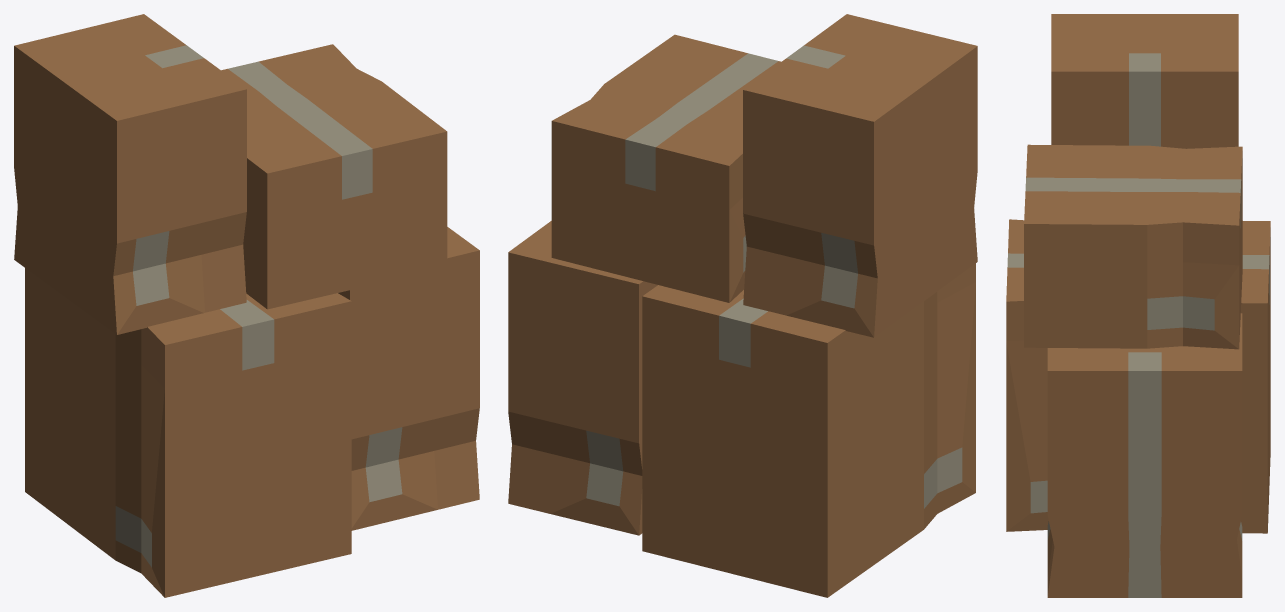
The model's file is Cardboard Boxes.glb.
3 views of the same model, side by side, from view 1: azimuth 30°, elevation 25°; view 2: azimuth 150°, elevation 25°; view 3: azimuth 270°, elevation 25° (orthographic). The views are drawn at different scales.
Visible parts, largest first — view 1: CardboardBoxes_4; view 2: CardboardBoxes_4; view 3: CardboardBoxes_4.
Boxes of the visible parts, x1,y1,x2,y2 form: CardboardBoxes_4: (14, 14, 479, 597); CardboardBoxes_4: (508, 14, 977, 597); CardboardBoxes_4: (1006, 14, 1270, 597).
Bounding box in the file's own units: 1.42 × 1.75 × 0.9863.
